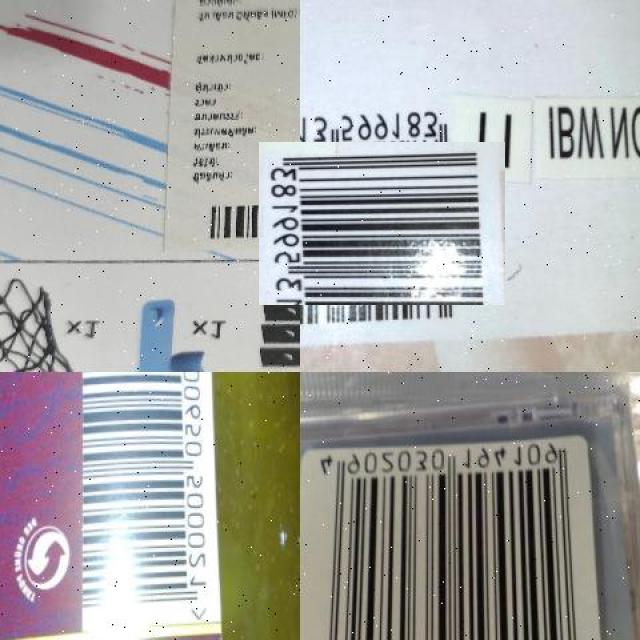Barcode: (299, 443, 589, 640), (279, 121, 484, 326), (77, 372, 208, 640), (189, 188, 300, 256)
